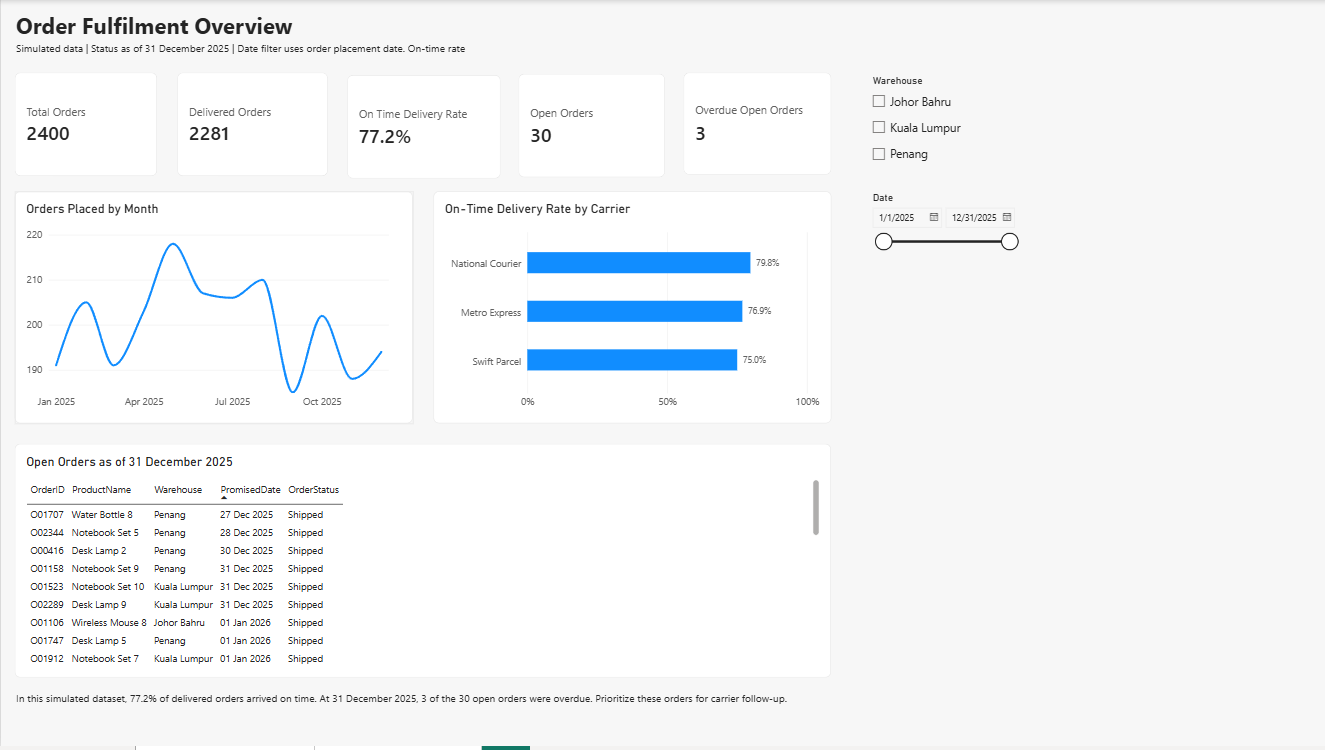

This screenshot's page, from the dashboard's own definition file:
{"tool":"powerbi","page":{"name":"Order Fulfillment","canvas":[1920,1080],"ordinal":1},"visuals":[{"type":"textbox","box":[21.2,15,412,58],"z":0},{"type":"cardVisual","fields":{"Data":["Orders.Total Orders"]},"box":[20.7,104.7,206,150],"z":1000},{"type":"cardVisual","fields":{"Data":["Orders.Delivered Orders"]},"box":[254.7,104.7,218,150],"z":2000},{"type":"cardVisual","fields":{"Data":["Orders.On Time Delivery Rate"]},"box":[500.7,108.7,222,150],"z":3000},{"type":"cardVisual","fields":{"Data":["Orders.Open Orders"]},"box":[748.7,106.7,212,150],"z":4000},{"type":"cardVisual","fields":{"Data":["Orders.Overdue Open Orders"]},"box":[988.7,104.7,214,148],"z":5000},{"type":"lineChart","title":"Orders Placed by Month","fields":{"Category":["Date Table.Month Start"],"Y":["Orders.Total Orders"]},"box":[20.7,276.7,576,336],"z":6000},{"type":"clusteredBarChart","title":"On-Time Delivery Rate by Carrier","fields":{"Category":["Orders.Carrier"],"Y":["Orders.On Time Delivery Rate"]},"box":[626.7,276.7,576,336],"z":7000},{"type":"slicer","fields":{"Values":["Warehouses.Warehouse"]},"box":[1254.7,108.7,222,156],"z":8000},{"type":"slicer","fields":{"Values":["Date Table.Date"]},"box":[1254.7,276.7,222,156],"z":9000},{"type":"textbox","box":[21.7,59.7,702.1,45.2],"z":10000},{"type":"tableEx","title":"Open Orders as of 31 December 2025","fields":{"Values":["Orders.OrderID","Products.ProductName","Warehouses.Warehouse","Orders.PromisedDate","Orders.OrderStatus"]},"box":[19.9,642.4,1181.7,338.4],"z":10001},{"type":"textbox","box":[21.7,1000.7,1134.7,36.2],"z":10002}]}

Visuals, with their boxes in screenshot pixels (x1, y1, x2, y2), scaled from the page's 1920x1080 canvas onto the 1325x750 screenshot:
textbox: [15,10,299,51]
cardVisual - Orders.Total Orders: [14,73,156,177]
cardVisual - Orders.Delivered Orders: [176,73,326,177]
cardVisual - Orders.On Time Delivery Rate: [346,75,499,180]
cardVisual - Orders.Open Orders: [517,74,663,178]
cardVisual - Orders.Overdue Open Orders: [682,73,830,175]
"Orders Placed by Month" lineChart: [14,192,412,425]
"On-Time Delivery Rate by Carrier" clusteredBarChart: [432,192,830,425]
slicer - Warehouses.Warehouse: [866,75,1019,184]
slicer - Date Table.Date: [866,192,1019,300]
textbox: [15,41,499,73]
"Open Orders as of 31 December 2025" tableEx: [14,446,829,681]
textbox: [15,695,798,720]
